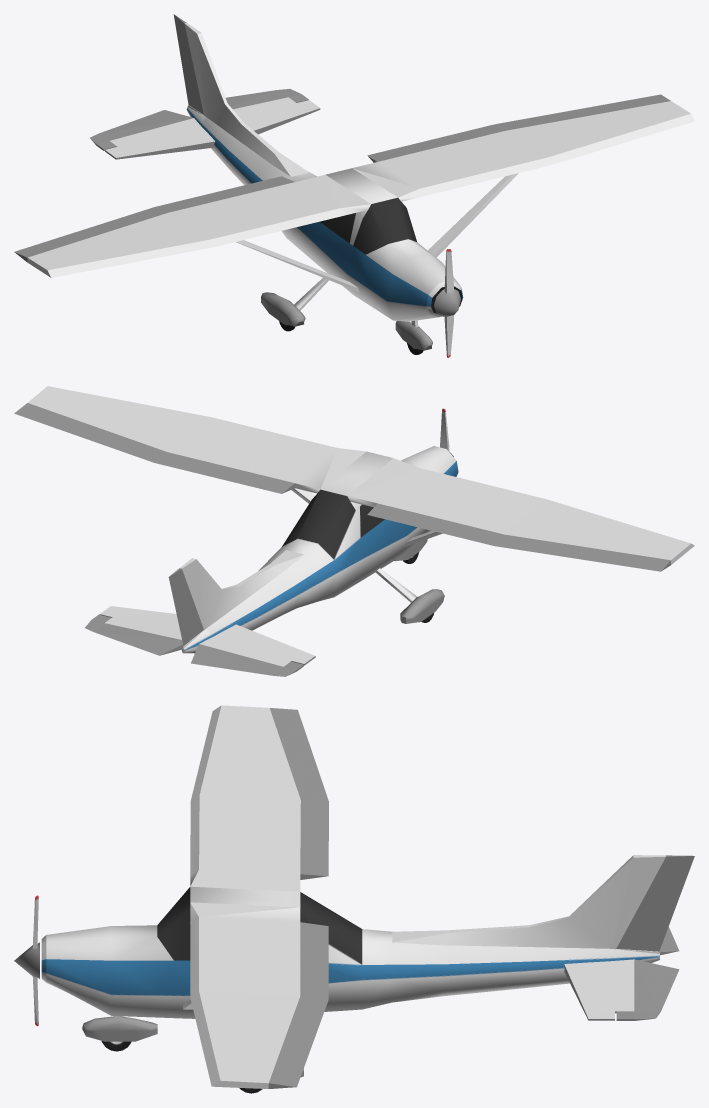
The picture shows the model from 3 angles, top to bottom: view 1: azimuth 30°, elevation 25°; view 2: azimuth 150°, elevation 25°; view 3: azimuth 270°, elevation 25°; orthographic projection. The views are drawn at different scales.
Visible parts, largest first — view 1: Body_Plane_0, Stabilizer_Plane_0, Elevator_Plane_0, RightAileron_Plane_0, LeftAileron_Plane_0, LeftFlap_Plane_0, RightFlap_Plane_0, Propeller_Plane_0, Rudder_Plane_0; view 2: Body_Plane_0, Stabilizer_Plane_0, Elevator_Plane_0, RightAileron_Plane_0, LeftAileron_Plane_0, LeftFlap_Plane_0, RightFlap_Plane_0, Rudder_Plane_0; view 3: Body_Plane_0, Rudder_Plane_0, Stabilizer_Plane_0, LeftAileron_Plane_0, RightAileron_Plane_0, Elevator_Plane_0, RightFlap_Plane_0, LeftFlap_Plane_0, Propeller_Plane_0.
Boxes of the visible parts, x1=… form: Body_Plane_0: x1=27, y1=23, x2=694, y2=350; Stabilizer_Plane_0: x1=105, y1=97, x2=320, y2=159; Elevator_Plane_0: x1=90, y1=89, x2=308, y2=150; RightAileron_Plane_0: x1=14, y1=207, x2=167, y2=261; LeftAileron_Plane_0: x1=495, y1=94, x2=670, y2=130; LeftFlap_Plane_0: x1=367, y1=124, x2=503, y2=162; RightFlap_Plane_0: x1=155, y1=176, x2=294, y2=212; Propeller_Plane_0: x1=434, y1=249, x2=460, y2=357; Rudder_Plane_0: x1=173, y1=14, x2=203, y2=114; Body_Plane_0: x1=28, y1=386, x2=694, y2=653; Stabilizer_Plane_0: x1=99, y1=606, x2=315, y2=666; Elevator_Plane_0: x1=85, y1=614, x2=303, y2=676; RightAileron_Plane_0: x1=494, y1=534, x2=670, y2=571; LeftAileron_Plane_0: x1=14, y1=403, x2=167, y2=462; LeftFlap_Plane_0: x1=155, y1=452, x2=294, y2=493; RightFlap_Plane_0: x1=367, y1=503, x2=503, y2=545; Rudder_Plane_0: x1=168, y1=568, x2=203, y2=645; Body_Plane_0: x1=41, y1=705, x2=665, y2=1088; Rudder_Plane_0: x1=616, y1=855, x2=694, y2=951; Stabilizer_Plane_0: x1=564, y1=959, x2=634, y2=1020; LeftAileron_Plane_0: x1=268, y1=996, x2=328, y2=1088; RightAileron_Plane_0: x1=270, y1=708, x2=328, y2=801; Elevator_Plane_0: x1=616, y1=927, x2=679, y2=1020; RightFlap_Plane_0: x1=300, y1=800, x2=328, y2=879; LeftFlap_Plane_0: x1=300, y1=922, x2=328, y2=1000; Propeller_Plane_0: x1=14, y1=895, x2=39, y2=1026.
Size of the model in its own units: 11.02 by 2.65 by 8.4.
Materials: 1 (1 with a texture image).
